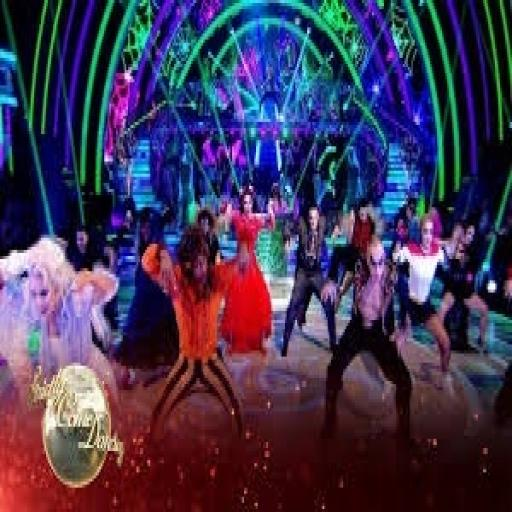dancing: (135, 144, 277, 448), (318, 229, 424, 460)
